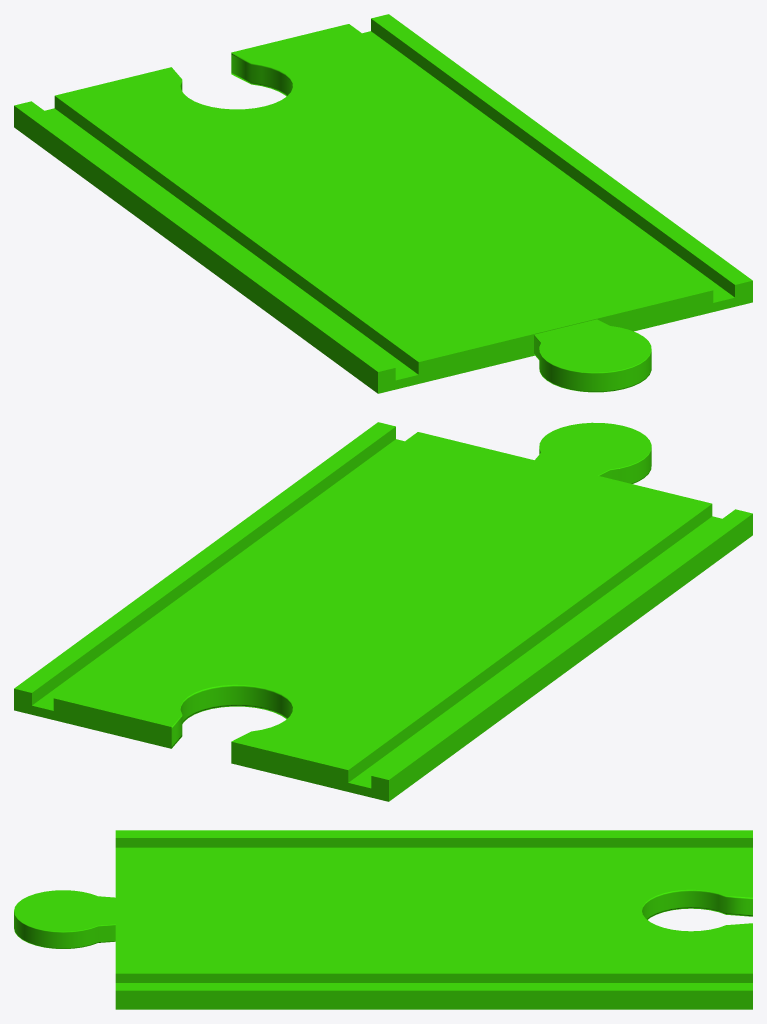
File: Track1.fbx
3 views of the same model, one above another, from view 1: azimuth 30°, elevation 25°; view 2: azimuth 150°, elevation 25°; view 3: azimuth 270°, elevation 25° (orthographic). The views are drawn at different scales.
Parts seen in each view (by area): view 1: Cylinder.002; view 2: Cylinder.002; view 3: Cylinder.002.
Boxes of the visible parts, box(x1,y1,x2,y2) form: Cylinder.002: box(14, 14, 752, 393); Cylinder.002: box(14, 422, 752, 801); Cylinder.002: box(14, 830, 752, 1009).
Size of the model in its own units: 769 by 42.74 by 1500.
